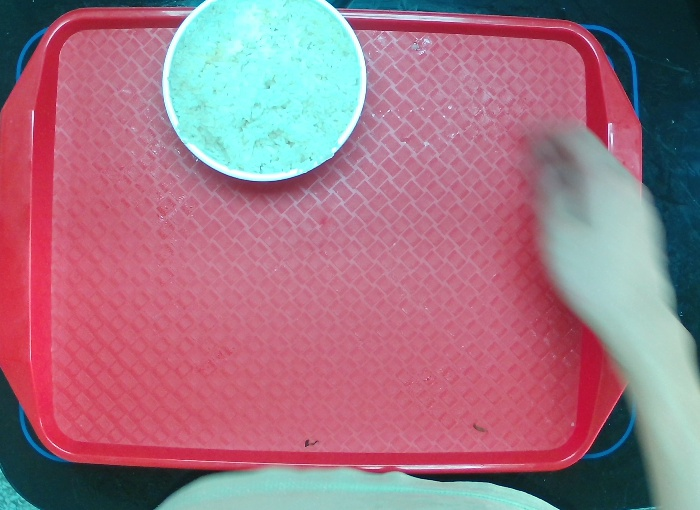YKMZ-Fan_Wan: (160, 1, 369, 181)
